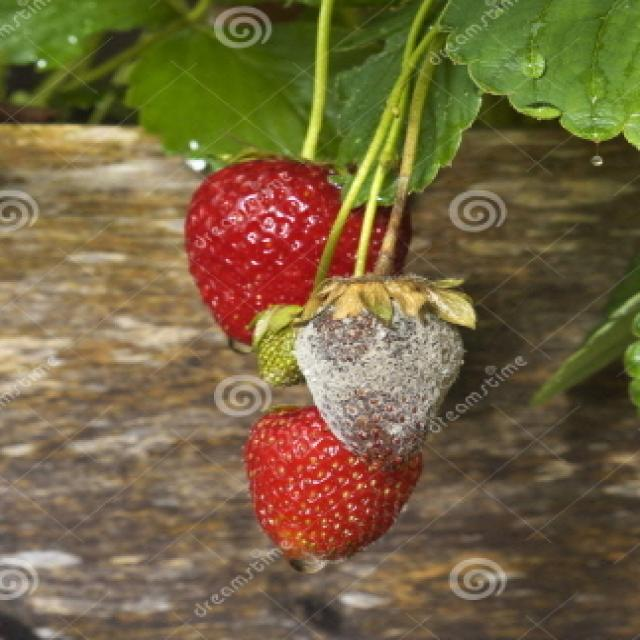Gray Mold: (290, 263, 478, 467)
